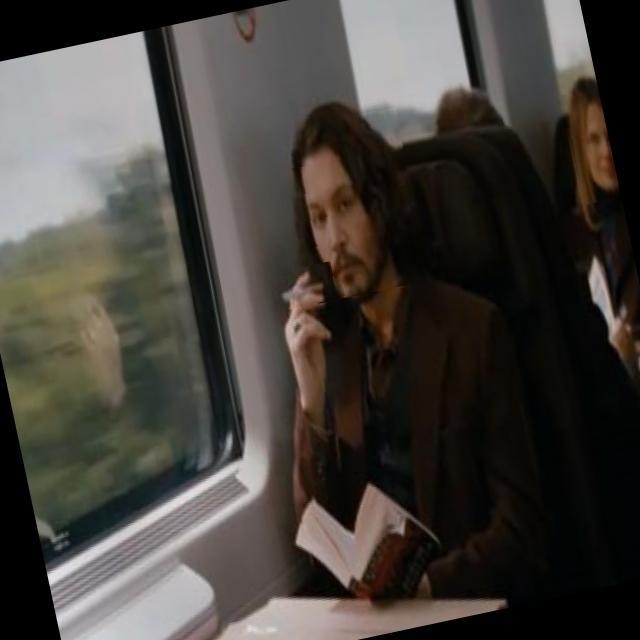cigarette: (267, 261, 338, 312)
